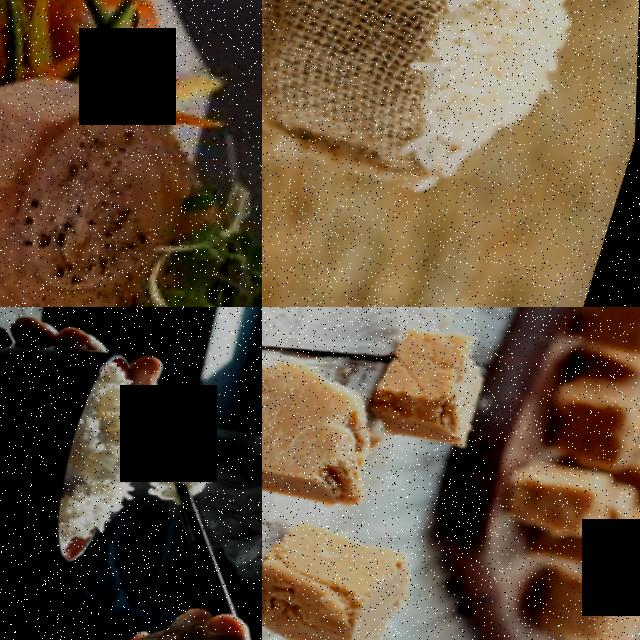tofu: (262, 341, 397, 519), (360, 313, 510, 460), (262, 511, 427, 640)
tuna: (0, 39, 212, 307)
white rice: (425, 0, 589, 184), (44, 359, 174, 564)
